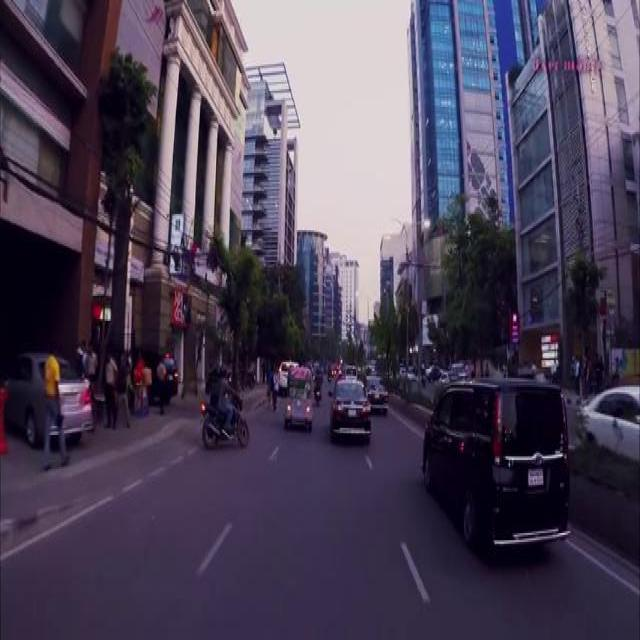car: (3, 348, 91, 438), (576, 382, 638, 461), (328, 376, 370, 435), (362, 372, 388, 407)
minivan: (421, 376, 569, 546)
motorbike: (200, 389, 248, 446), (313, 378, 321, 401)
suv: (124, 342, 176, 398)
three wheelers -CNG-: (285, 366, 313, 424)
